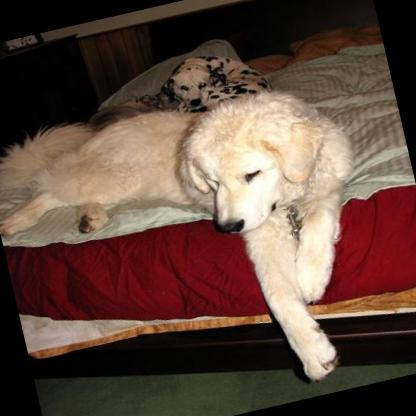kuvasz: (0, 59, 399, 416)
